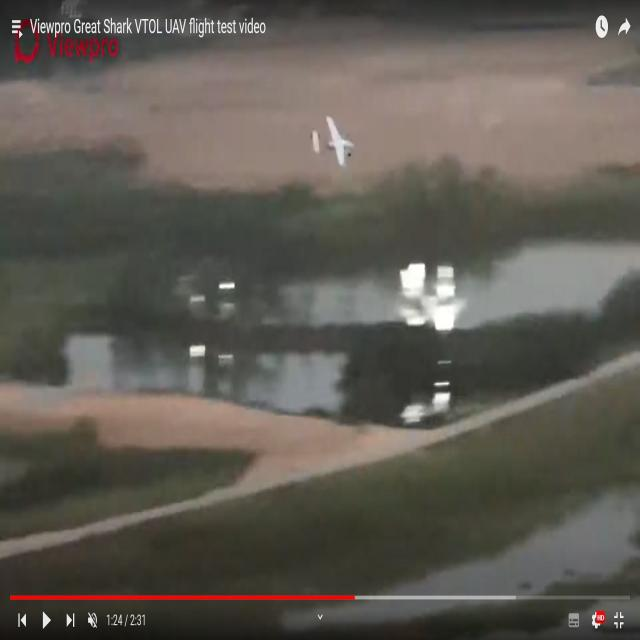iha: (311, 108, 355, 159)
